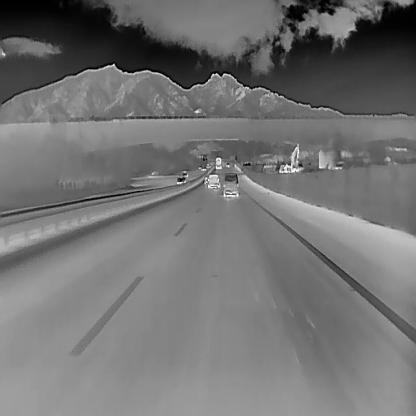car: (222, 170, 239, 197), (207, 174, 220, 188), (214, 155, 222, 170), (176, 176, 183, 184), (181, 171, 189, 178), (204, 174, 210, 183), (206, 161, 211, 168), (182, 177, 187, 183), (224, 161, 228, 168), (197, 163, 201, 169), (201, 165, 205, 171)
